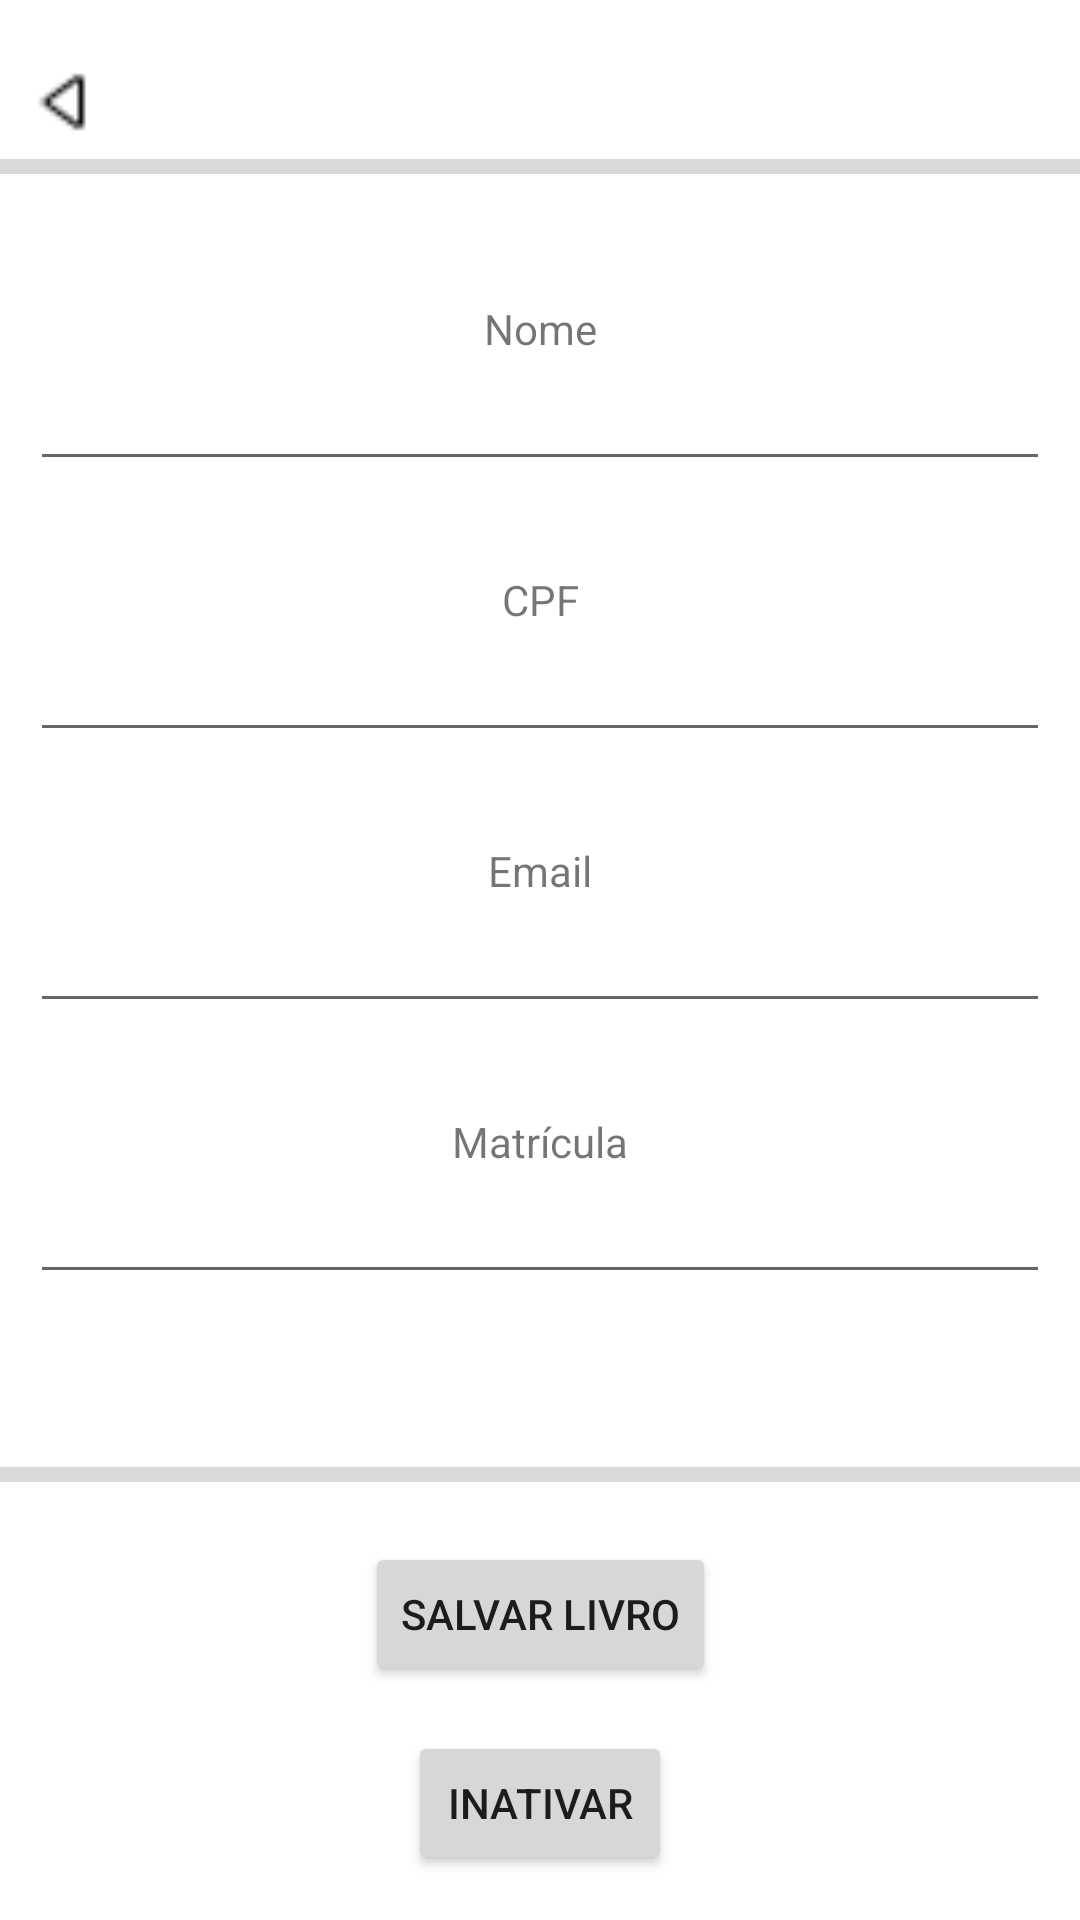

Where to tap for icons on this 1080 x 1920 app screen, as [x,y]:
arrow left: [62,102]
